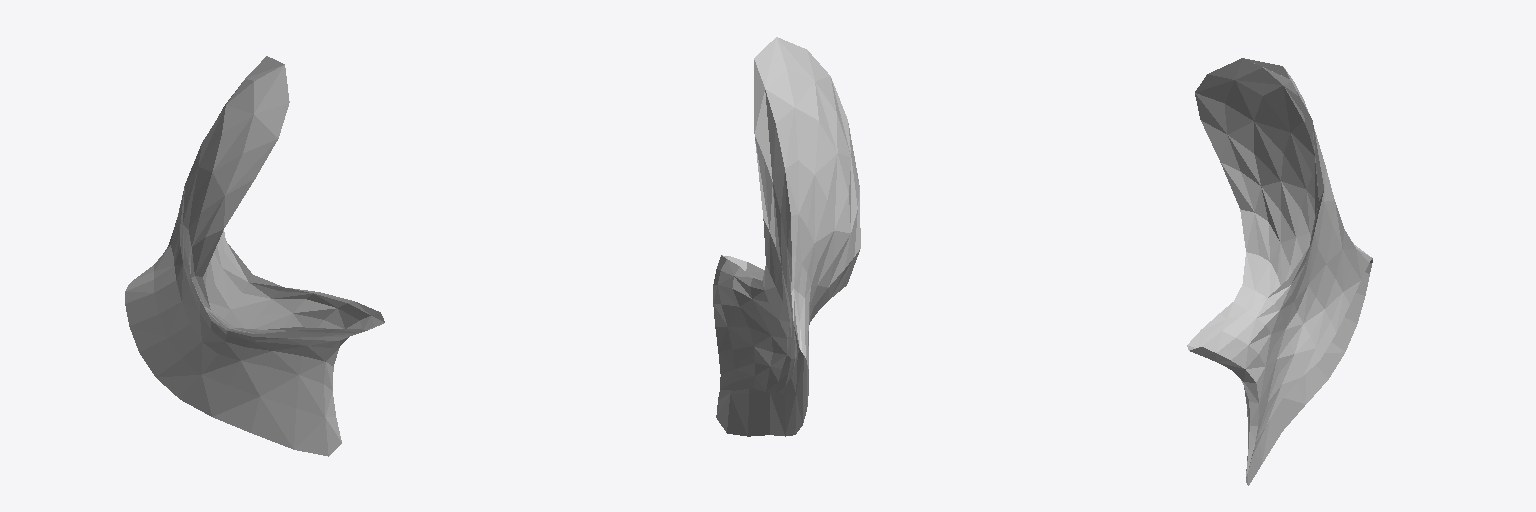
The model's file is nasalis_right.obj.
3 renders of one model, left to right at view 1: azimuth 30°, elevation 25°; view 2: azimuth 150°, elevation 25°; view 3: azimuth 270°, elevation 25°, orthographic.
Visible parts, largest first — view 1: Nasalis_Right; view 2: Nasalis_Right; view 3: Nasalis_Right.
Boxes of the visible parts, x1,y1,x2,y2 form: Nasalis_Right: [125, 56, 384, 456]; Nasalis_Right: [713, 37, 860, 436]; Nasalis_Right: [1187, 58, 1372, 485].
Size of the model in its own units: 0.1321 by 0.2983 by 0.1238.